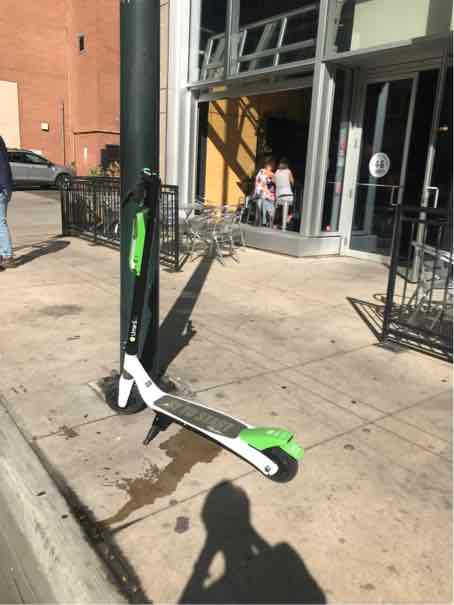scooter: (89, 166, 304, 484)
